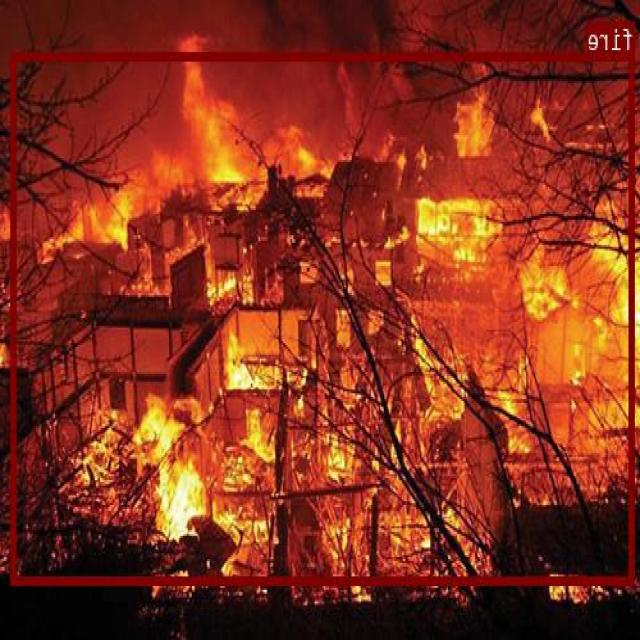fire: (12, 51, 635, 584)
